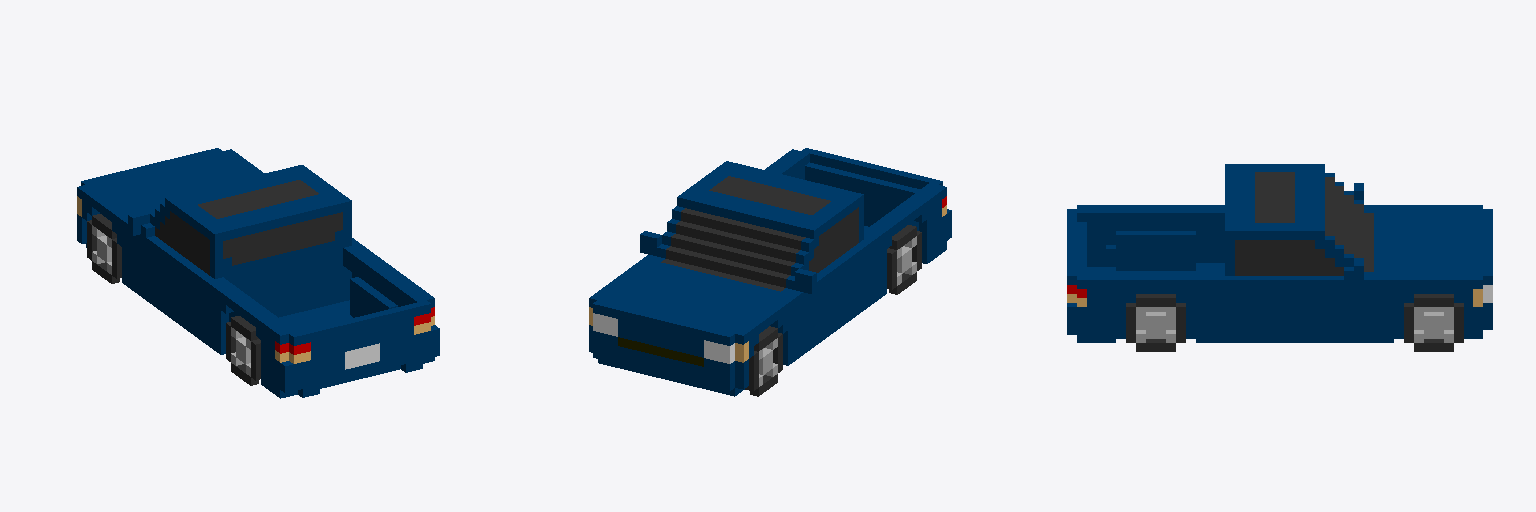
3 renders of one model, left to right at view 1: azimuth 30°, elevation 25°; view 2: azimuth 150°, elevation 25°; view 3: azimuth 270°, elevation 25°, orthographic.
Visible parts, largest first — view 1: object 1; view 2: object 1; view 3: object 1.
Boxes of the visible parts, box(x1,y1,x2,y2) form: object 1: box(77, 148, 439, 398); object 1: box(589, 148, 951, 396); object 1: box(1067, 164, 1492, 351).
Size of the model in its own units: 2 by 1.3 by 4.3.
1 materials, 1 textured.